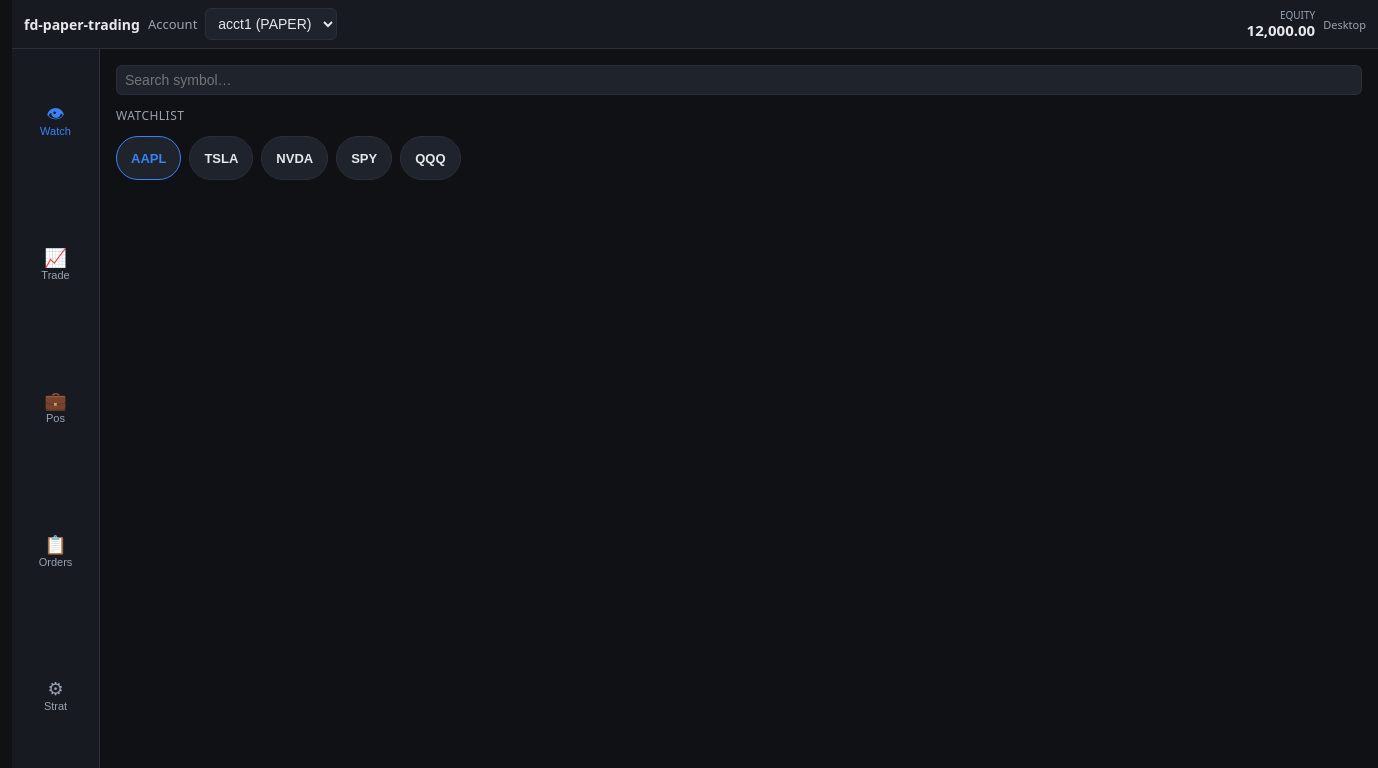
Scenario: MobileApp › switches tabs on tap and shows the positions empty state
Click the text "Pos" at (56, 418), box [46,412,65,424]
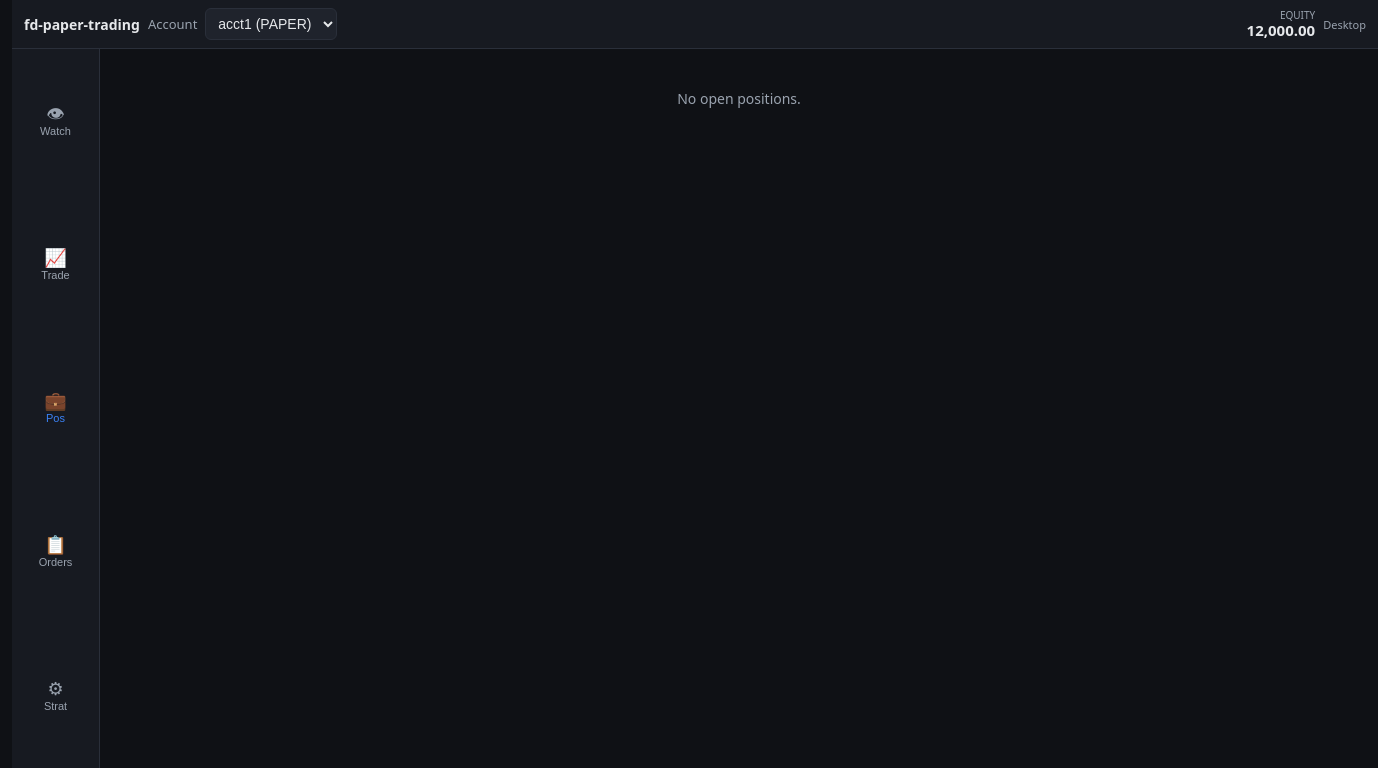
Result: the text "No open positions." is shown at [677,89,801,108]
